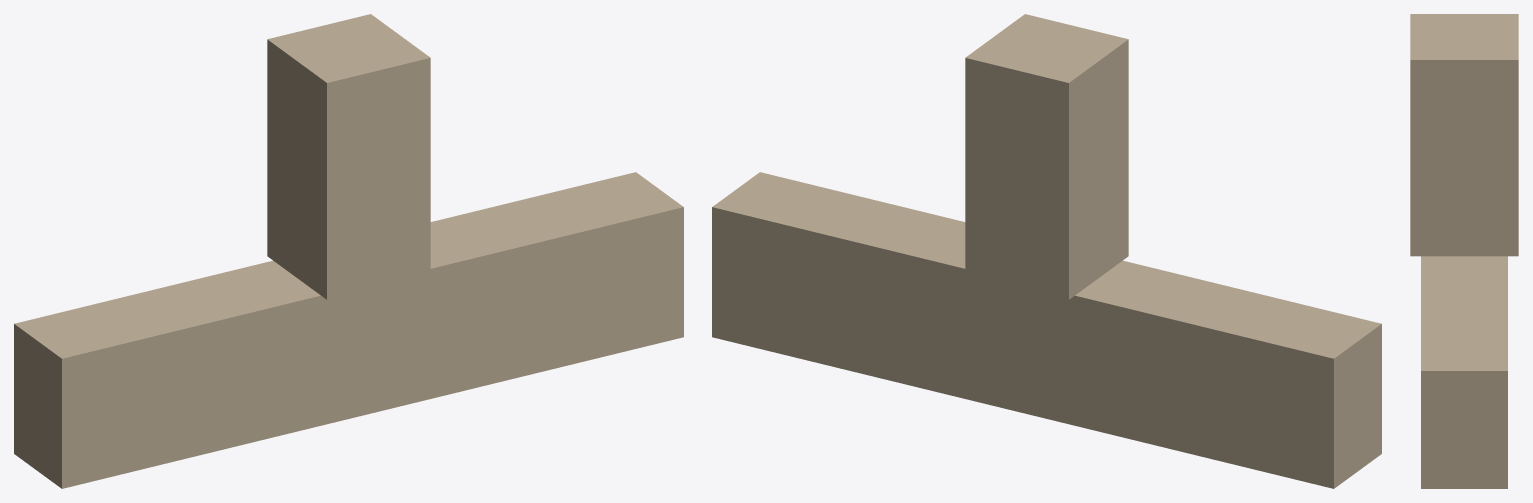
Rendered from great-wall.glb.
The picture shows the model from 3 angles, left to right: view 1: azimuth 30°, elevation 25°; view 2: azimuth 150°, elevation 25°; view 3: azimuth 270°, elevation 25°; orthographic projection. The views are drawn at different scales.
Visible parts, largest first — view 1: great-wall; view 2: great-wall; view 3: great-wall.
Part boxes in pixels (<box>): great-wall: <box>14,14,683,488</box>; great-wall: <box>712,14,1381,488</box>; great-wall: <box>1410,14,1518,488</box>.
Bounding box in the file's own units: 1.5 × 0.8 × 0.25.
